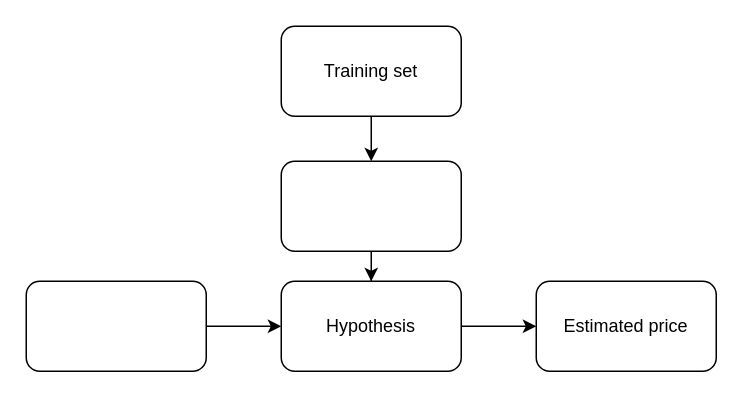
Image size: 743x398. Some labels were removed from this diagram. Each missing label, with the box of its shape:
Learning Algorithm: (280, 160, 461, 251)
Size of house: (25, 280, 206, 371)
